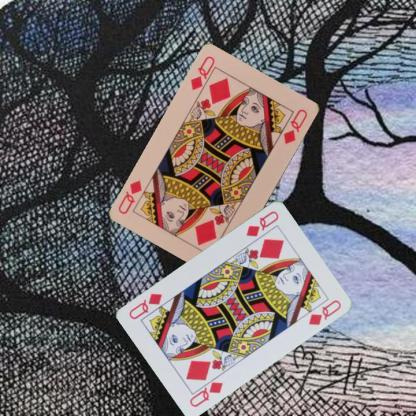Qd: (187, 371, 224, 408), (188, 54, 218, 98), (243, 207, 280, 238)
